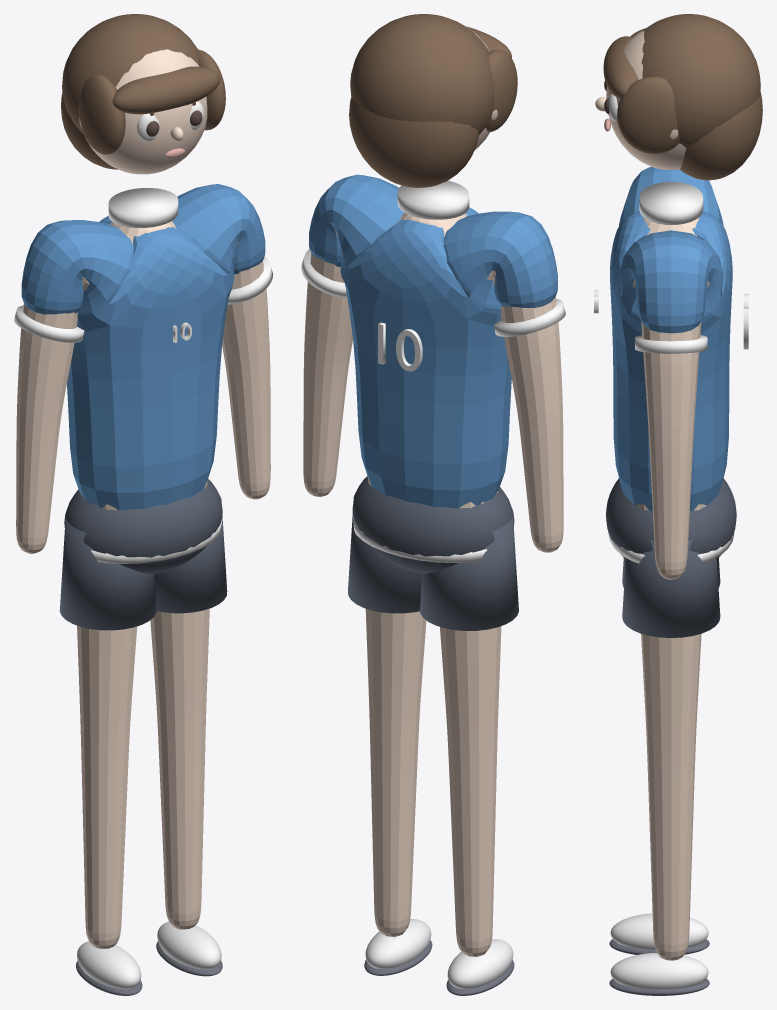
File: athlete_blue.glb
3 views of the same model, side by side, from view 1: azimuth 30°, elevation 25°; view 2: azimuth 150°, elevation 25°; view 3: azimuth 270°, elevation 25° (orthographic). The views are drawn at different scales.
Visible parts, largest first — view 1: JERSEY, body, shorts_hip, shortleg-1, hair_top, head, shortleg1, hair_fringe, hair_side-1, jcollar, shoe1, shoe-1 (+5 smaller); view 2: JERSEY, body, hair_top, shorts_hip, hair_back, shortleg-1, shortleg1, jcollar, shoe-1, shoe1, hair_side-1, jcuff-1 (+3 smaller); view 3: JERSEY, body, hair_top, shortleg1, shorts_hip, hair_side1, hair_back, shoe1, jcollar, head, shoe-1, hair_fringe (+4 smaller).
Boxes of the visible parts, x1,y1,x2,y2 form: JERSEY: (21,184,265,510); body: (16,221,270,948); shorts_hip: (64,479,222,574); shortleg-1: (59,518,156,630); hair_top: (62,14,199,134); head: (86,49,207,174); shortleg1: (154,495,227,613); hair_fringe: (112,66,220,114); hair_side-1: (78,74,125,154); jcollar: (108,188,178,227); shoe1: (157,921,221,969); shoe-1: (77,941,141,989); JERSEY: (309,174,557,508); body: (303,213,563,956); hair_top: (350,14,494,134); shorts_hip: (352,476,514,573); hair_back: (349,97,478,187); shortleg-1: (420,516,518,630); shortleg1: (348,492,421,613); jcollar: (397,180,469,219); shoe-1: (447,939,513,988); shoe1: (365,919,431,968); hair_side-1: (486,50,517,131); jcuff-1: (494,299,565,336); JERSEY: (610,166,732,511); body: (632,217,709,960); hair_top: (641,14,760,147); shortleg1: (622,539,720,637); shorts_hip: (605,478,736,559); hair_side1: (617,76,679,153); hair_back: (680,91,762,180); shoe1: (610,953,708,989); jcollar: (639,181,703,225); head: (606,31,686,169); shoe-1: (610,913,708,949); hair_fringe: (603,36,638,99).
Size of what is drawn, in the model's own units: 1.24 by 4.48 by 0.7215.
